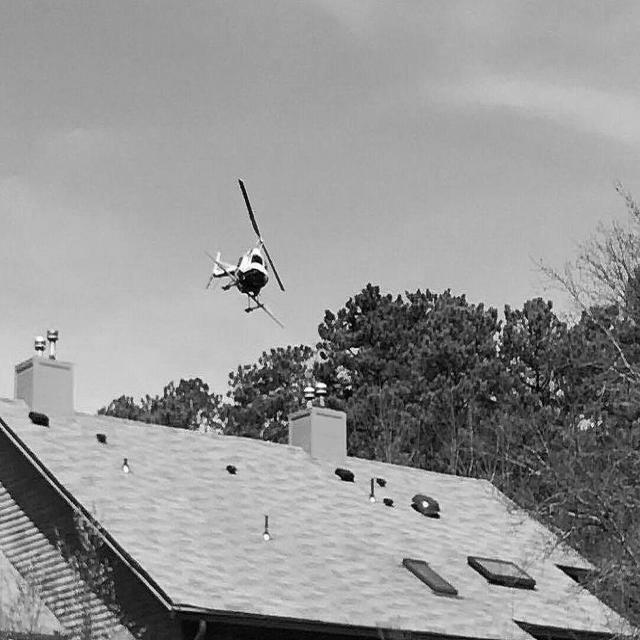helikopter: (190, 175, 308, 350)
